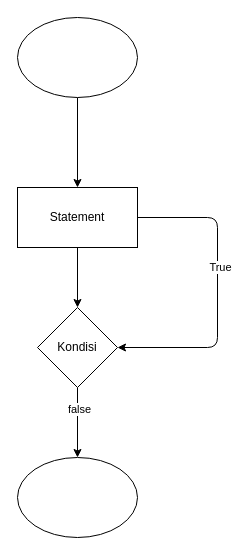
This 248x555 diagram has some shape labels left out. Each missing label, with the box of its shape:
End: (16, 456, 138, 538)
Start: (16, 16, 138, 98)
